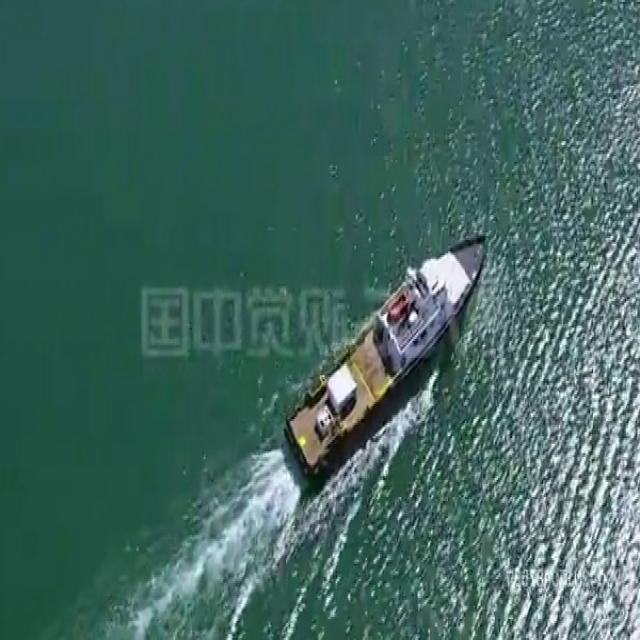houseboat: (286, 234, 486, 468)
